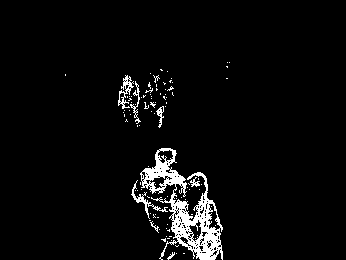person: (129, 148, 183, 244), (173, 172, 225, 260), (145, 68, 174, 129), (116, 74, 142, 126)
